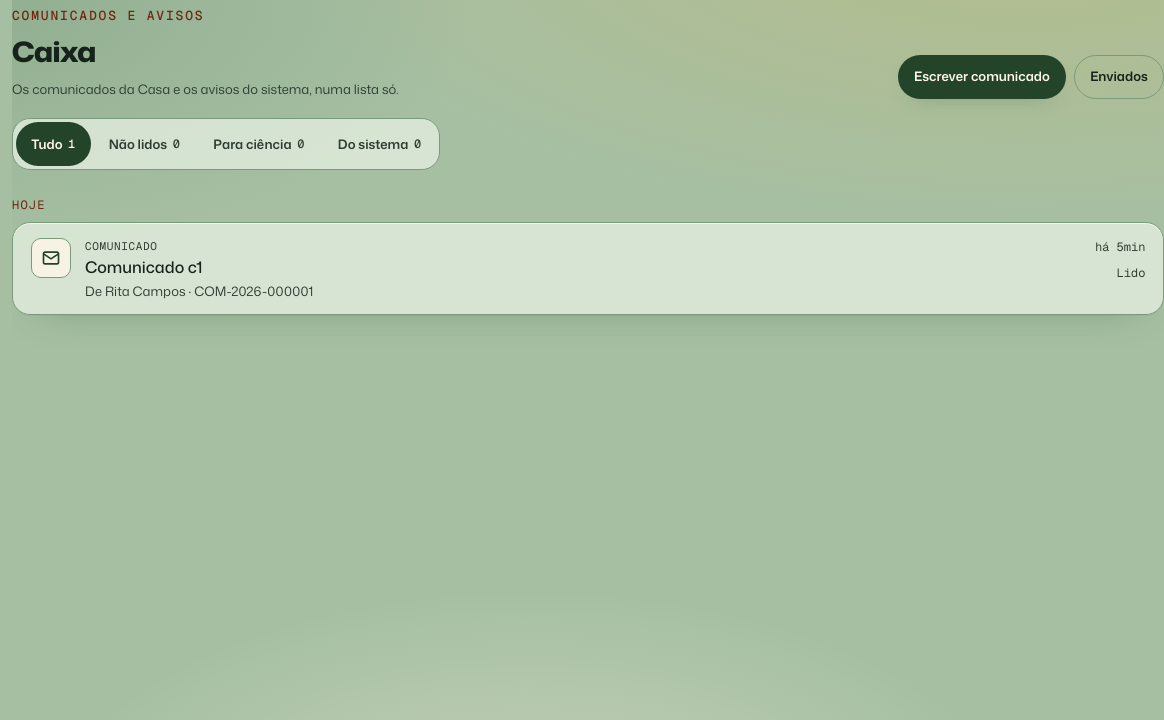
Test: CaixaDaCasa — a lista › o filtro vazio diz que é o FILTRO, não a caixa
Expected: the link "Comunicado c1" is shown, [85,256,202,278]
Click the button "Para ciência 0". click: (259, 144)
box: [198,122,320,166]
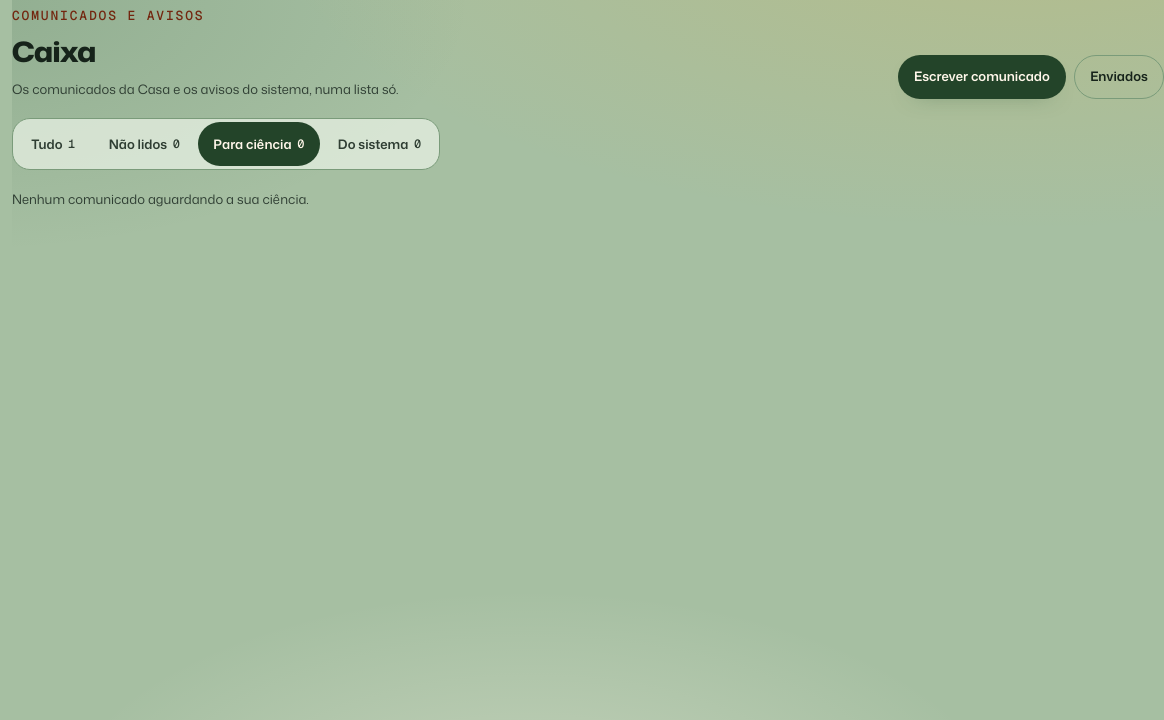
Expected: the text "Nenhum comunicado aguardando a sua ciência." is shown, [12,190,309,208]
